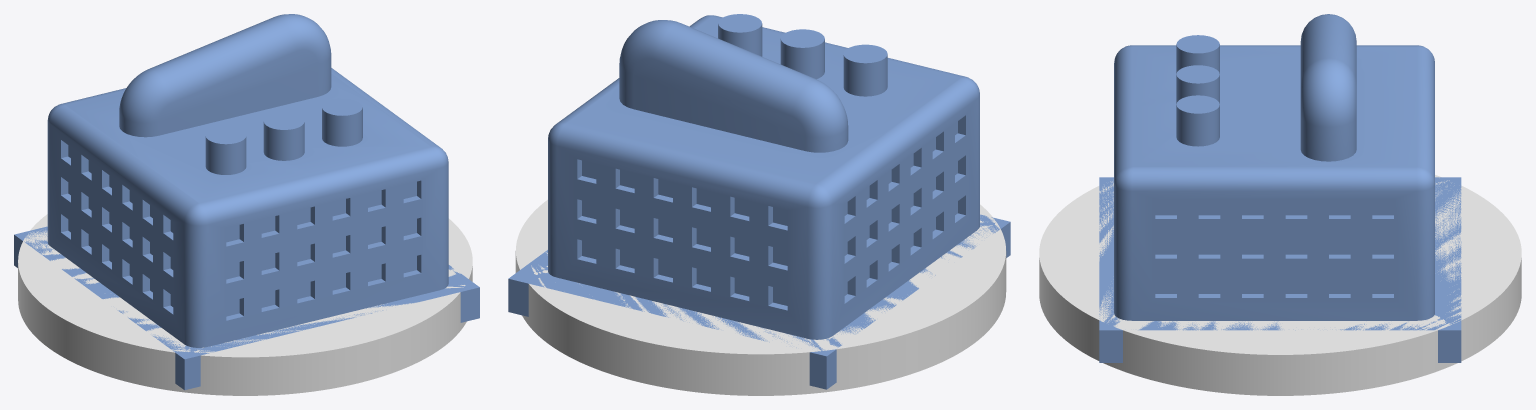
The model's file is YELLOW.gltf.
3 renders of one model, left to right at view 1: azimuth 30°, elevation 25°; view 2: azimuth 150°, elevation 25°; view 3: azimuth 270°, elevation 25°, orthographic. The views are drawn at different scales.
Parts seen in each view (by area): view 1: Part 2, Part 1, Part 3; view 2: Part 2, Part 1, Part 3; view 3: Part 2, Part 1, Part 3.
Part boxes in pixels (x1,y1,x2,y2): Part 2: (47,14,448,347); Part 1: (18,214,472,395); Part 3: (14,226,479,390); Part 2: (548,14,979,339); Part 1: (515,199,1006,395); Part 3: (508,214,1010,389); Part 2: (1114,14,1434,320); Part 1: (1039,175,1521,395); Part 3: (1099,177,1461,362).
Bounding box in the file's own units: 0.032 × 0.0195 × 0.032.
